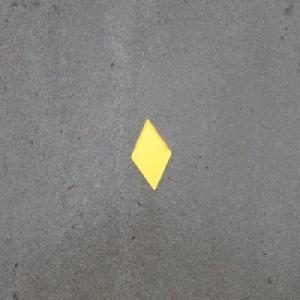PlasticPart: (130, 117, 172, 191)
